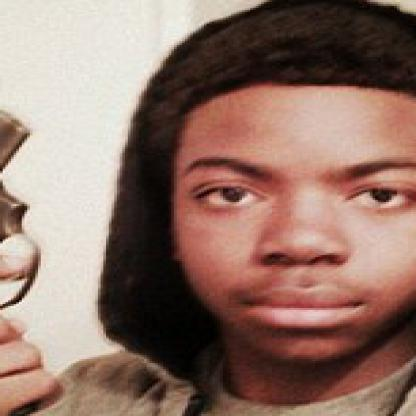gun: (0, 90, 71, 414)
